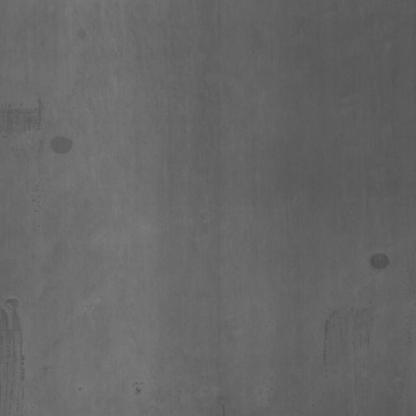oil_spot: (49, 132, 75, 162), (367, 246, 392, 274)
water_spot: (0, 280, 37, 408), (318, 292, 372, 366), (0, 94, 50, 140)
